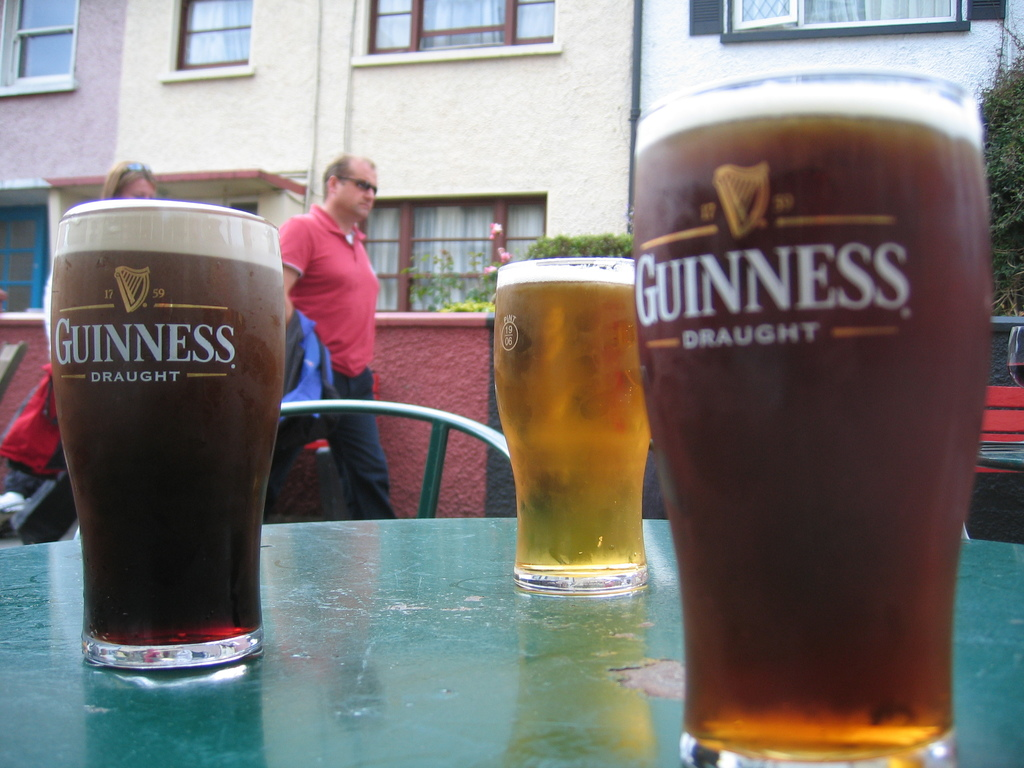Beer: (615, 74, 1006, 754), (41, 195, 286, 629), (485, 255, 664, 581)
